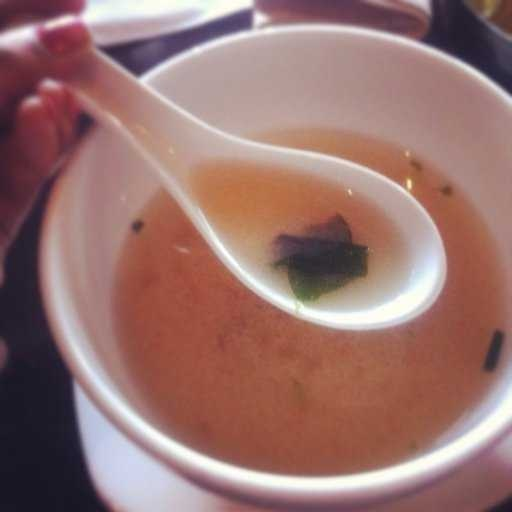soup: (66, 63, 490, 452)
